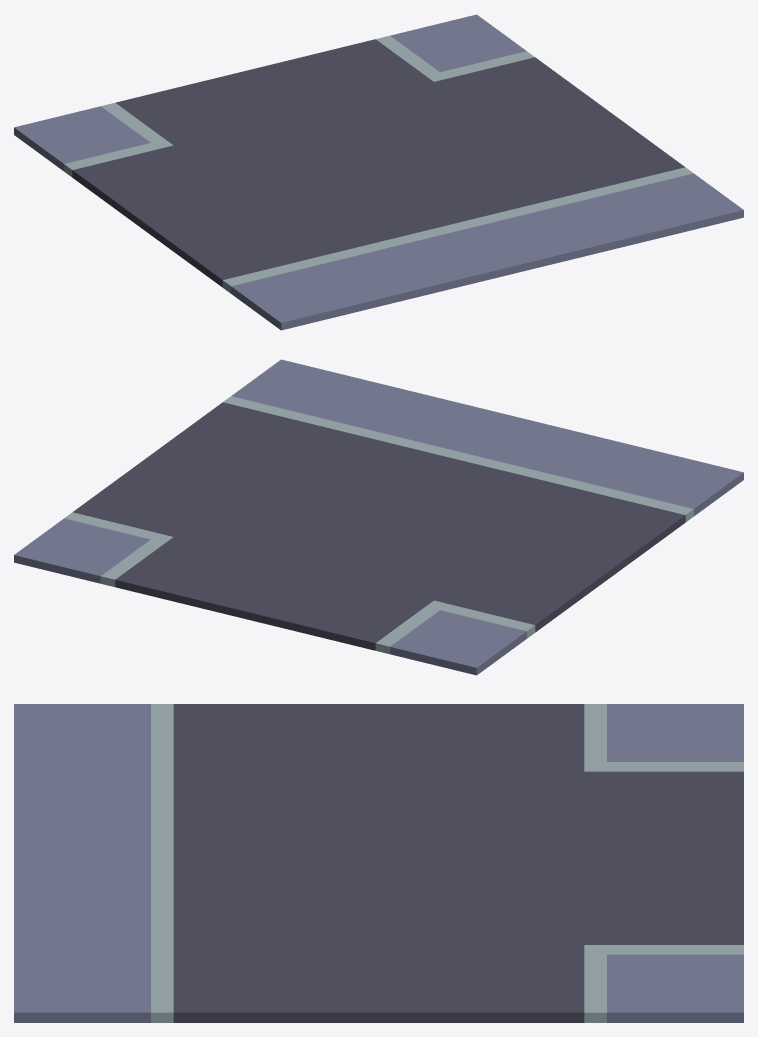
The model's file is Ground_005.obj.
3 renders of one model, top to bottom at view 1: azimuth 30°, elevation 25°; view 2: azimuth 150°, elevation 25°; view 3: azimuth 270°, elevation 25°, orthographic. The views are drawn at different scales.
Size of the model in its own units: 6.4 by 0.1 by 6.4.
1 material, 1 textured.
